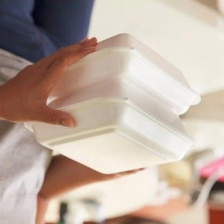foam_box: (18, 69, 199, 178), (18, 30, 205, 126)
